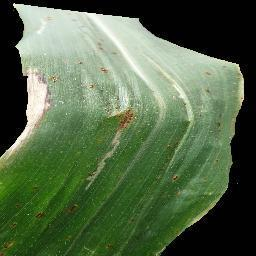Corn_Common_Rust: (22, 59, 59, 125), (103, 97, 139, 133), (231, 60, 247, 128), (82, 157, 110, 192), (0, 220, 21, 256), (189, 205, 214, 230), (34, 9, 55, 37), (11, 125, 37, 147), (95, 36, 121, 56), (215, 182, 234, 208), (66, 8, 93, 26), (106, 133, 123, 157), (60, 197, 79, 216), (153, 242, 177, 256), (0, 147, 17, 166), (168, 172, 187, 186), (31, 208, 48, 223), (77, 81, 100, 92), (100, 239, 116, 254), (96, 65, 117, 74), (73, 54, 86, 68), (205, 65, 216, 80), (14, 198, 23, 211), (203, 86, 214, 95), (215, 119, 223, 129)
